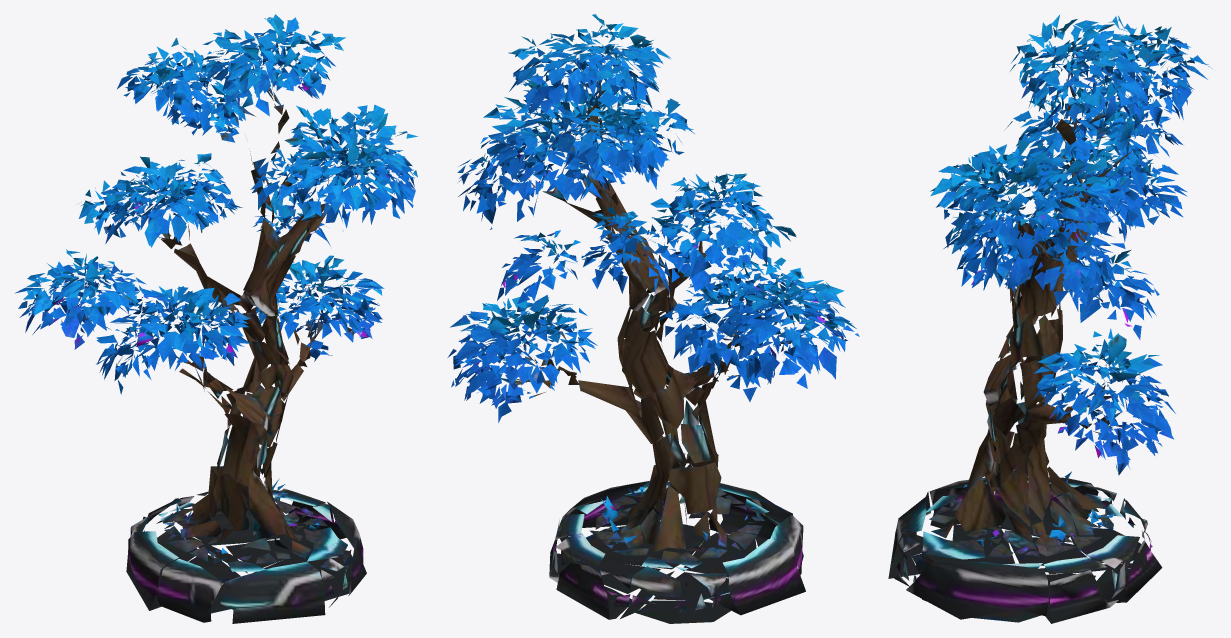
Rendered from cyan-tree-png.glb.
3 renders of one model, left to right at view 1: azimuth 30°, elevation 25°; view 2: azimuth 150°, elevation 25°; view 3: azimuth 270°, elevation 25°, orthographic. The views are drawn at different scales.
Parts seen in each view (by area): view 1: Mesh_0; view 2: Mesh_0; view 3: Mesh_0.
Boxes of the visible parts, x1,y1,x2,y2 form: Mesh_0: (15,14,418,623); Mesh_0: (447,14,859,623); Mesh_0: (888,15,1212,623).
Bounding box in the file's own units: 0.7426 × 0.9981 × 0.5104.
Materials: 1 (1 with a texture image).
